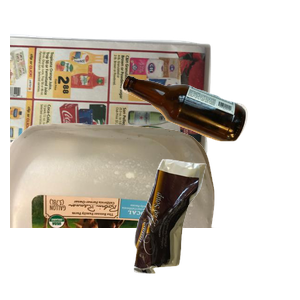glass: (119, 73, 300, 207)
paper: (10, 31, 214, 211)
plastic: (10, 120, 220, 300)
trash: (131, 157, 300, 300)
